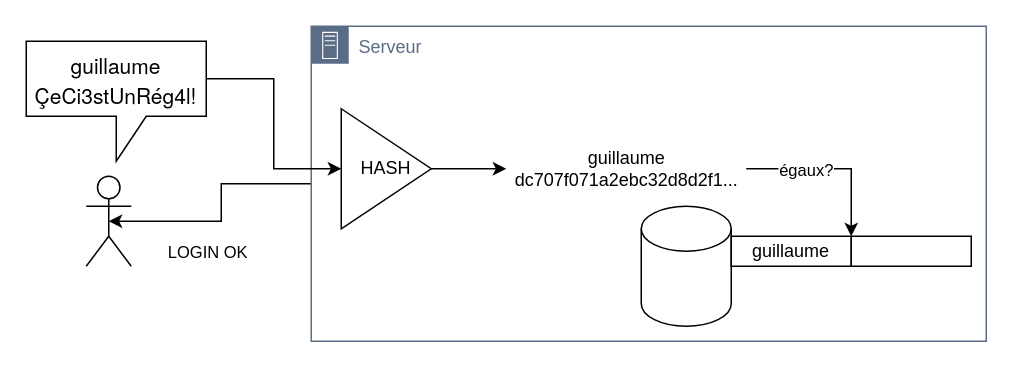
Some shapes in this 1013 by 368 pixel diagram are drawn without their labels. Here are the shapes that lost their labels. From the top down, the centre of each, then its label:
At [685,265]: "BDD".
At [910,250]: "dc707...".
